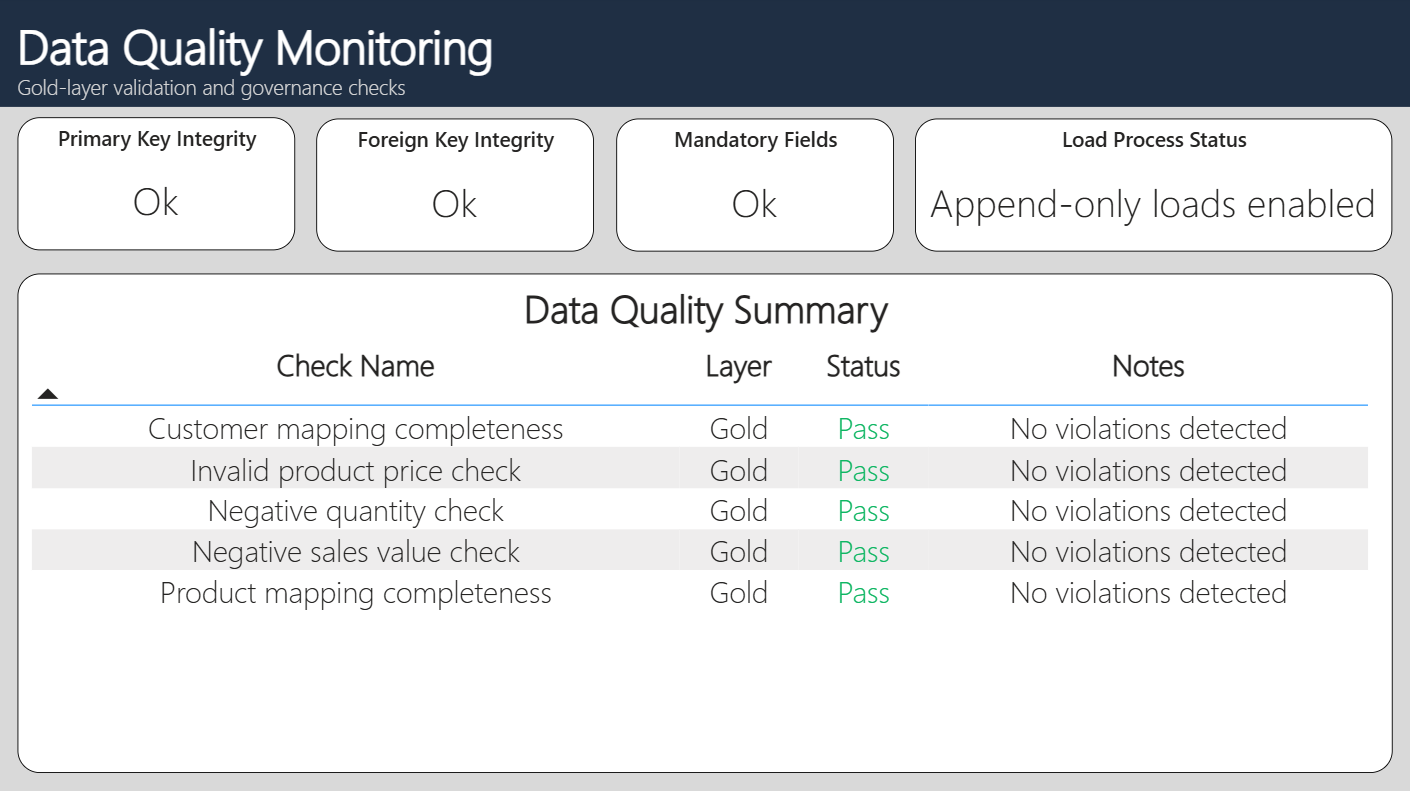

The dashboard page shown, as its layout file describes it:
{"tool":"powerbi","page":{"name":"Data Quality Monitoring","canvas":[1280,720],"ordinal":2},"visuals":[{"type":"shape","box":[0,0,1280,100],"z":0},{"type":"card","title":"Primary Key Integrity","fields":{"Values":["CountNonNull(report_customers.customer_key)"]},"box":[20,109.6,250,120],"z":1000},{"type":"card","title":"Foreign Key Integrity","fields":{"Values":["report_customers.VIP Customers"]},"box":[290,110,250,120],"z":2000},{"type":"card","title":"Load Process Status","fields":{"Values":["report_customers.Avg Order Value"]},"box":[830,110,430,120],"z":3000},{"type":"card","title":"Mandatory Fields","fields":{"Values":["report_customers.Total Sales"]},"box":[560,110,250,120],"z":4000},{"type":"textbox","box":[0,64.4,1280,34.4],"z":5000},{"type":"textbox","box":[0,10,1280,70],"z":6000},{"type":"tableEx","title":"Data Quality Summary","fields":{"Values":["dq_summary.Check Name","dq_summary.Layer","dq_summary.Status","dq_summary.Notes"]},"box":[20,250,1240,450],"z":6001}]}

Visuals, with their boxes in screenshot pixels (x1, y1, x2, y2), scaled from the page's 1280x720 canvas onto the 1410x791 screenshot:
shape: l=0, t=0, r=1409, b=110
"Primary Key Integrity" card: l=22, t=120, r=297, b=252
"Foreign Key Integrity" card: l=319, t=121, r=595, b=253
"Load Process Status" card: l=914, t=121, r=1388, b=253
"Mandatory Fields" card: l=617, t=121, r=892, b=253
textbox: l=0, t=71, r=1409, b=109
textbox: l=0, t=11, r=1409, b=88
"Data Quality Summary" tableEx: l=22, t=275, r=1388, b=769
